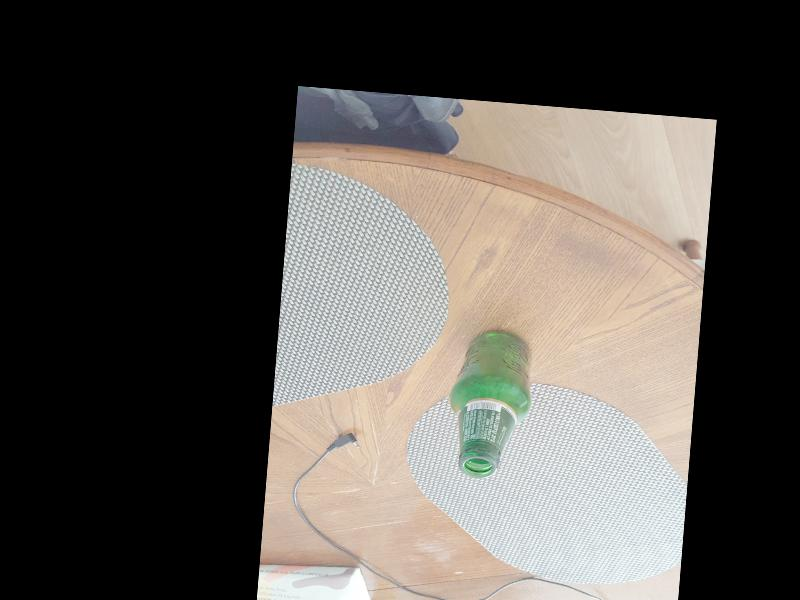Beer: (446, 327, 535, 482)
